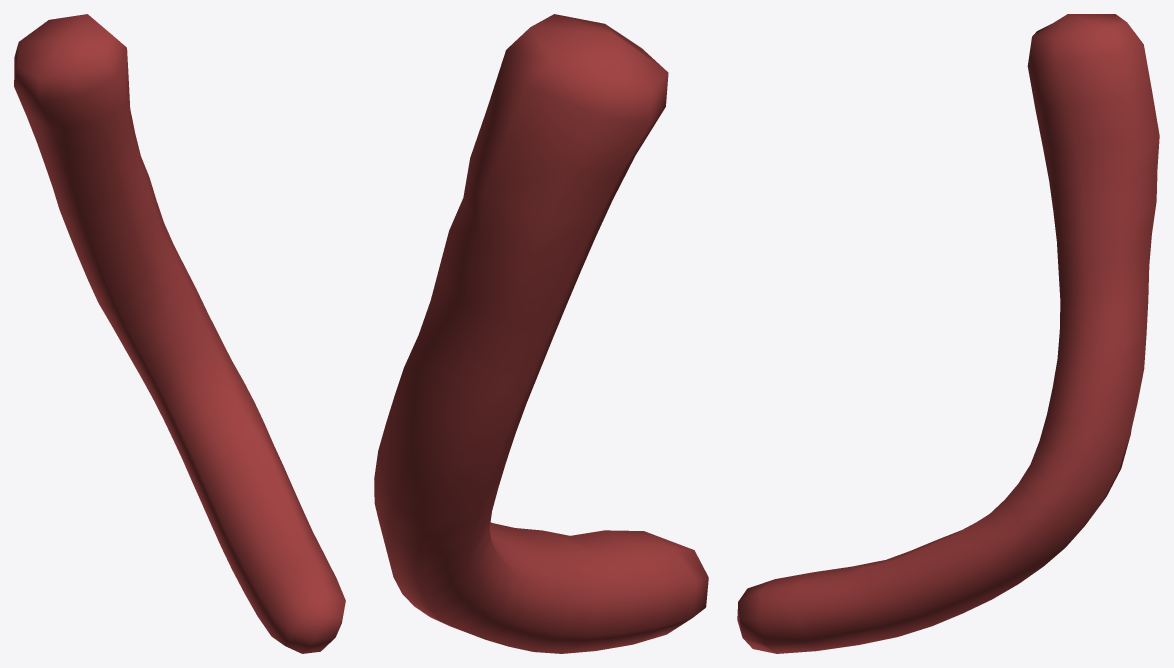
File: tendon-sheath-of-flexor-hallucis-longus-r.glb
3 renders of one model, left to right at view 1: azimuth 30°, elevation 25°; view 2: azimuth 150°, elevation 25°; view 3: azimuth 270°, elevation 25°, orthographic. The views are drawn at different scales.
Visible parts, largest first — view 1: Tendon sheath of flexor hallucis longus.r; view 2: Tendon sheath of flexor hallucis longus.r; view 3: Tendon sheath of flexor hallucis longus.r.
Boxes of the visible parts, x1,y1,x2,y2 form: Tendon sheath of flexor hallucis longus.r: [14, 14, 345, 653]; Tendon sheath of flexor hallucis longus.r: [374, 14, 708, 653]; Tendon sheath of flexor hallucis longus.r: [737, 14, 1159, 653].
Bounding box in the file's own units: 0.0209 × 0.0513 × 0.0336.
